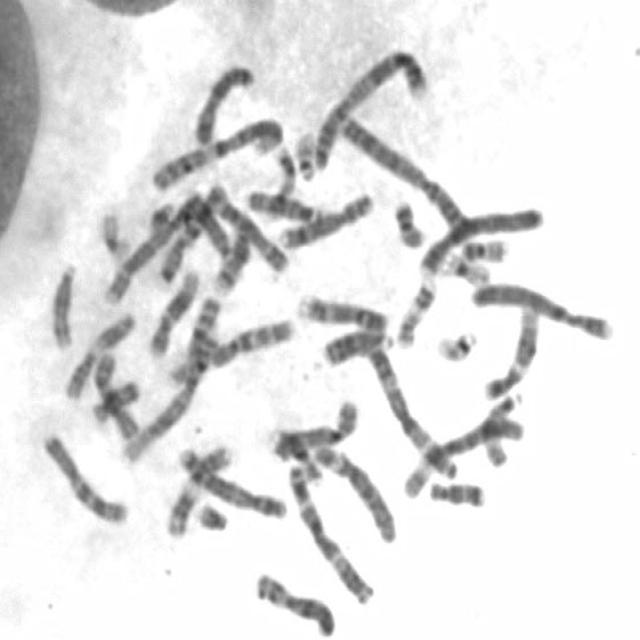A1: (115, 290, 222, 466), (144, 109, 286, 192)
A2: (336, 109, 480, 255), (307, 42, 430, 172)
A3: (357, 322, 460, 484), (283, 456, 378, 606)
B4: (413, 198, 545, 279), (465, 275, 616, 342)
B5: (172, 439, 289, 522), (202, 178, 292, 275)
C10: (203, 310, 298, 370), (86, 345, 142, 442)
C11: (162, 438, 237, 539), (59, 307, 137, 402)
C12: (479, 299, 543, 401), (143, 261, 202, 360)
C6: (396, 409, 524, 502), (308, 437, 399, 544)
C7: (38, 426, 132, 527), (154, 178, 228, 288)
C8: (274, 185, 376, 251), (266, 392, 360, 461)
C9: (100, 198, 195, 305), (292, 287, 389, 361)
D13: (179, 187, 236, 266), (317, 321, 396, 369)
D14: (46, 255, 80, 352), (208, 223, 253, 295)
D15: (476, 386, 524, 469), (240, 183, 325, 223)
E16: (163, 307, 223, 389), (270, 422, 328, 486)
E17: (391, 272, 438, 349), (262, 138, 298, 223)
E18: (86, 372, 142, 426), (424, 473, 488, 510)
F19: (92, 204, 134, 264), (436, 247, 493, 287)
F20: (388, 192, 429, 250), (455, 231, 511, 263)
G21: (190, 495, 232, 534), (144, 195, 177, 238)
G22: (432, 322, 481, 363), (290, 123, 319, 182)
X: (250, 564, 339, 638), (188, 56, 258, 147)
